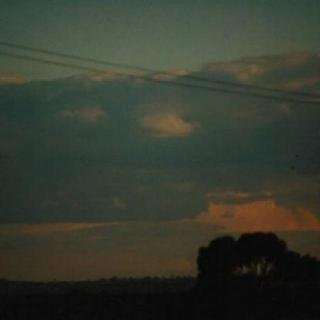Stratocumulus: (1, 34, 320, 260)
